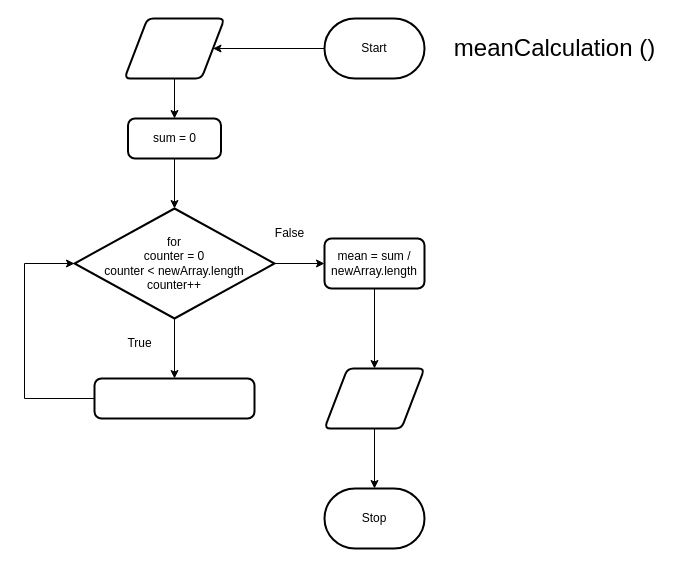
This 682x566 diagram has some shape labels left out. The centre of each missing label's shape, as x and y in pixels:
"get newArray" belongs at (174,48).
"return mean" belongs at (374,398).
"sum += newArray[counter]" belongs at (174,398).
